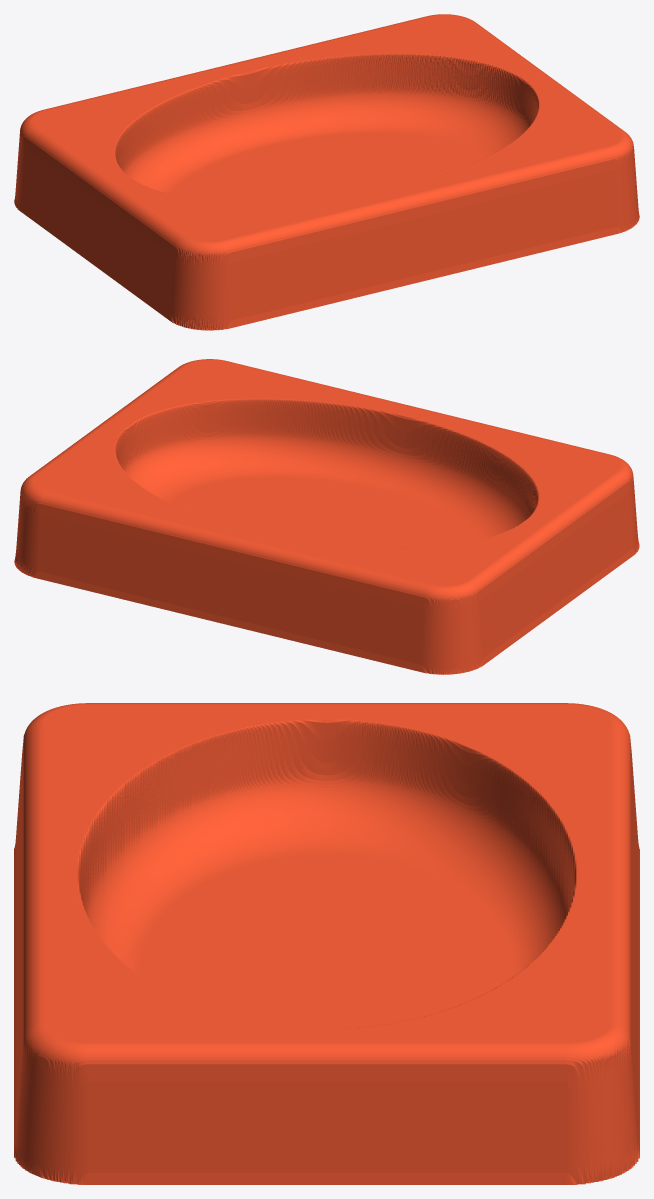
The model's file is mold.glb.
3 renders of one model, top to bottom at view 1: azimuth 30°, elevation 25°; view 2: azimuth 150°, elevation 25°; view 3: azimuth 270°, elevation 25°, orthographic. The views are drawn at different scales.
Visible parts, largest first — view 1: geometry_0; view 2: geometry_0; view 3: geometry_0.
Boxes of the visible parts, left/top/right/bottom form: geometry_0: left=14, top=14, right=639, bottom=330; geometry_0: left=14, top=359, right=639, bottom=674; geometry_0: left=14, top=703, right=639, bottom=1184.
Bounding box in the file's own units: 0.105 × 0.0175 × 0.0766.
